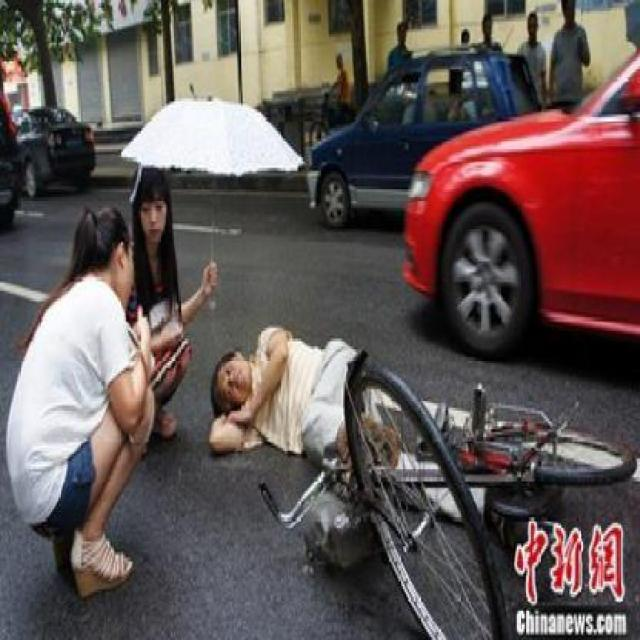fall: (200, 307, 426, 471)
